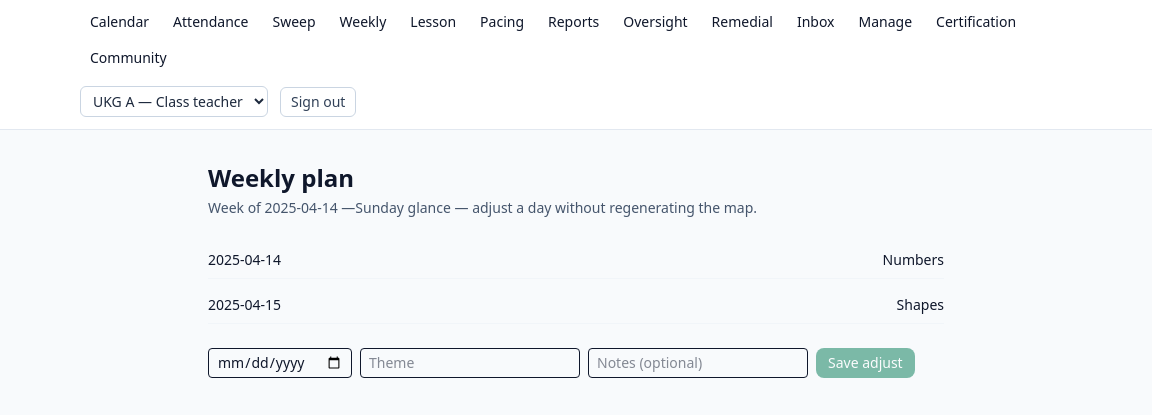
Test: WeeklyPlanPage › override wins over base theme without regenerating the map
Type "2025-04-14" into the date field named "Day date" at {"x": 280, "y": 363}, box [208,348,352,378]
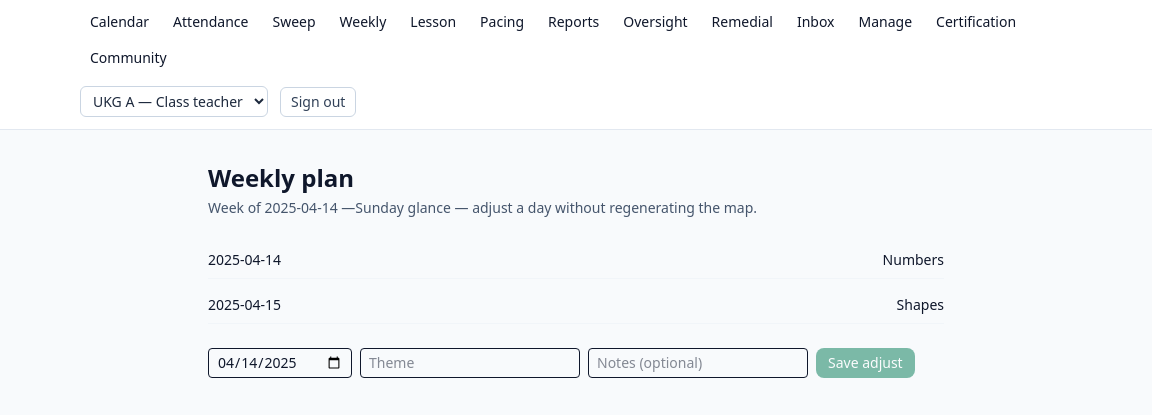
Type "Adjusted theme" into the field labelled "Theme" at {"x": 470, "y": 363}, box [360,348,580,378]
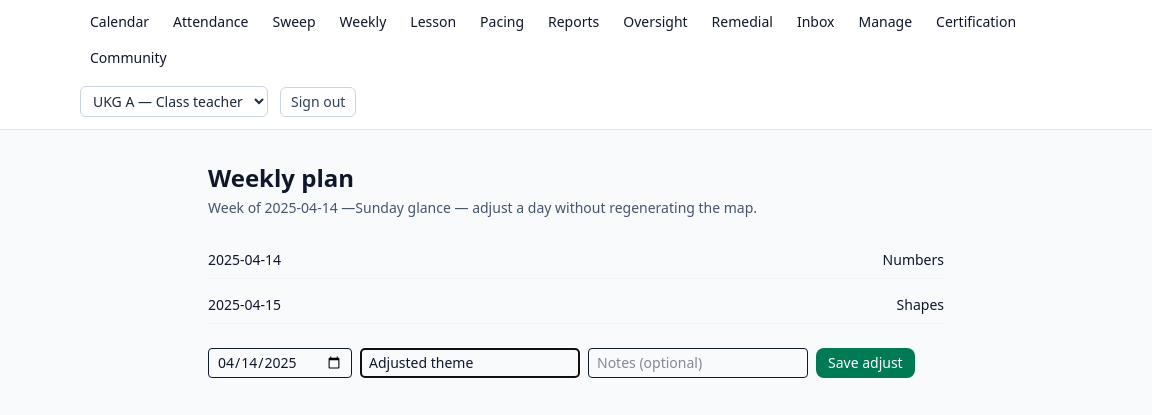
Type "Ran short on time" into the field labelled "Notes" at {"x": 698, "y": 363}, box [588,348,808,378]
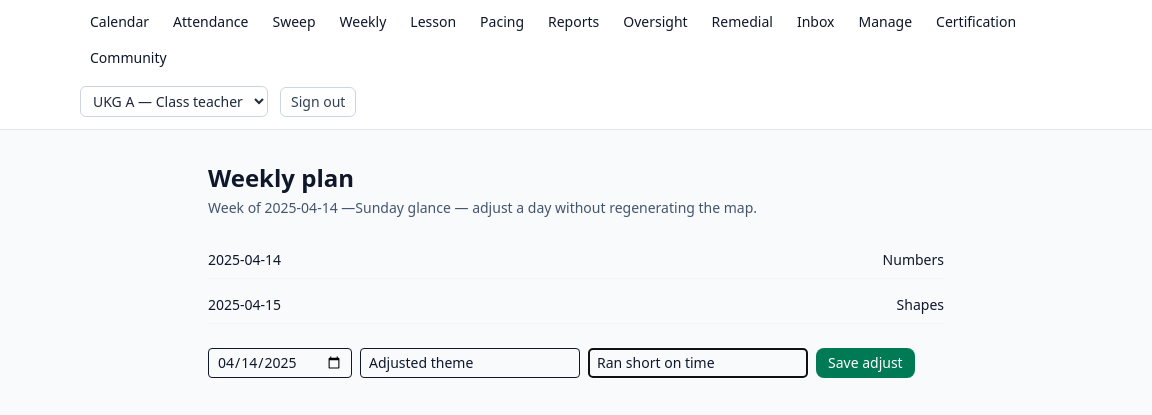
Click the button "Save adjust" at {"x": 865, "y": 363}, box [816,348,915,378]
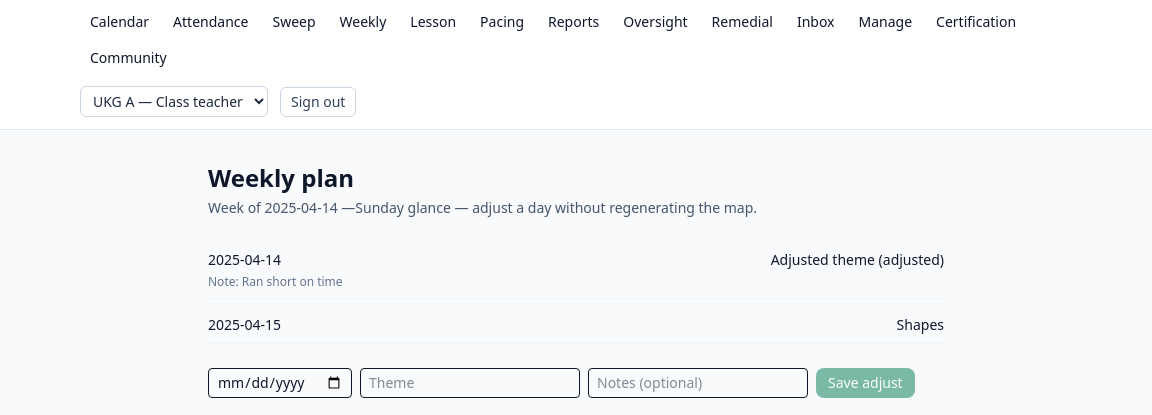
Check: the text "Adjusted theme (adjusted)" is shown, box [771,250,944,270]
Check: the text "Note: Ran short on time" is shown, box [208,273,343,290]
